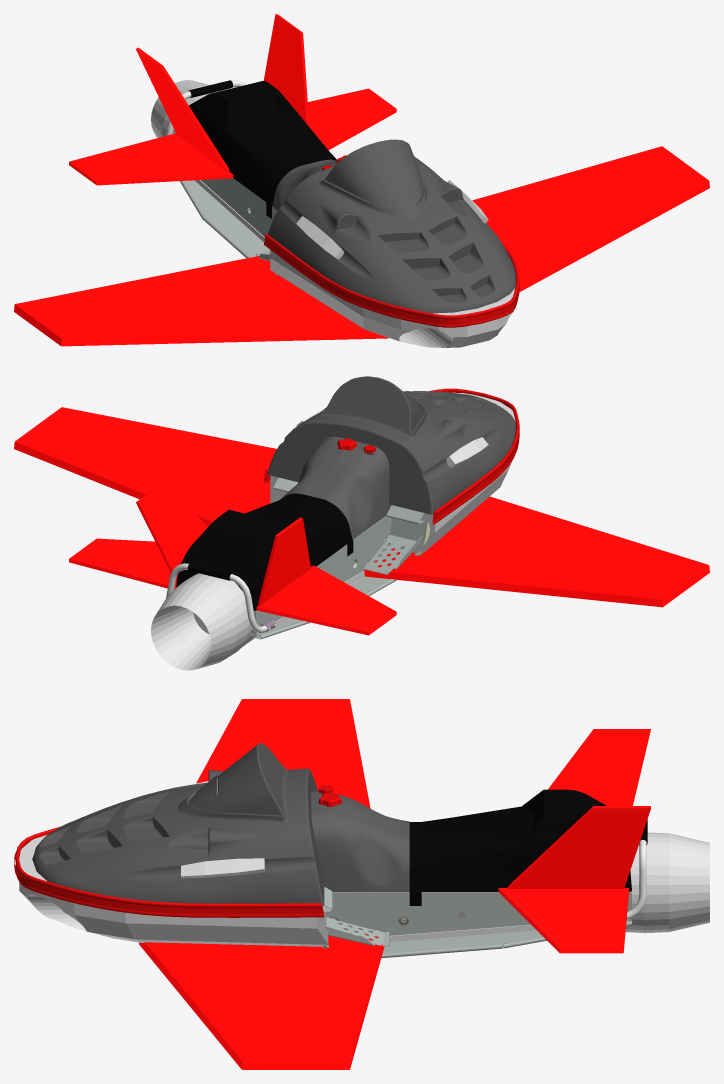
Rendered from SnowMobileJet.fbx.
3 renders of one model, top to bottom at view 1: azimuth 30°, elevation 25°; view 2: azimuth 150°, elevation 25°; view 3: azimuth 270°, elevation 25°, orthographic. The views are drawn at different scales.
Parts seen in each view (by area): view 1: Face Set.761, Cube.001, Cube.002, Face Set.702, Cube.003, Cube.006, Face Set.022, Cube.005, Cube.009, Cube.004, Face Set.775, Face.214 (+4 smaller); view 2: Cube.001, Face Set.761, Cube.002, Face Set.702, Cylinder, Face Set.699, Cube.003, Cube.009, Cube.005, Face Set.022, Cube.004, Face Set.024 (+5 smaller); view 3: Face Set.761, Cube.002, Face Set.702, Cube.001, Face Set.022, Cube.006, Face Set.699, Cube.009, Cylinder, Cube.005, Cube.004, Face Set.775 (+6 smaller).
Boxes of the visible parts, box(x1,y1,x2,y2) form: Face Set.761: box(268, 139, 515, 313); Cube.001: box(14, 256, 388, 346); Cube.002: box(472, 146, 709, 292); Face Set.702: box(189, 81, 336, 201); Cube.003: box(69, 133, 233, 185); Cube.006: box(270, 250, 514, 347); Face Set.022: box(179, 178, 277, 258); Cube.005: box(307, 88, 396, 150); Cube.009: box(263, 14, 309, 126); Cube.004: box(136, 47, 229, 172); Face Set.775: box(264, 234, 519, 327); Face.214: box(265, 238, 519, 324); Cube.001: box(364, 496, 709, 607); Face Set.761: box(267, 376, 515, 514); Cube.002: box(14, 407, 276, 526); Face Set.702: box(176, 497, 347, 610); Cylinder: box(151, 559, 357, 670); Face Set.699: box(280, 436, 391, 539); Cube.003: box(256, 565, 396, 635); Cube.009: box(136, 483, 207, 584); Cube.005: box(69, 538, 176, 588); Face Set.022: box(251, 516, 396, 639); Cube.004: box(258, 517, 310, 605); Face Set.024: box(362, 505, 425, 574); Face Set.761: box(32, 743, 324, 905); Cube.002: box(139, 934, 384, 1069); Face Set.702: box(421, 789, 631, 891); Cube.001: box(196, 699, 370, 808); Face Set.022: box(325, 891, 632, 958); Cube.006: box(19, 834, 328, 946); Face Set.699: box(311, 791, 409, 891); Cube.009: box(507, 806, 650, 888); Cylinder: box(330, 832, 709, 933); Cube.005: box(498, 888, 628, 953); Cube.004: box(548, 729, 650, 805); Face Set.775: box(15, 826, 324, 917).
Size of the model in its own units: 358 by 81.9 by 290.
